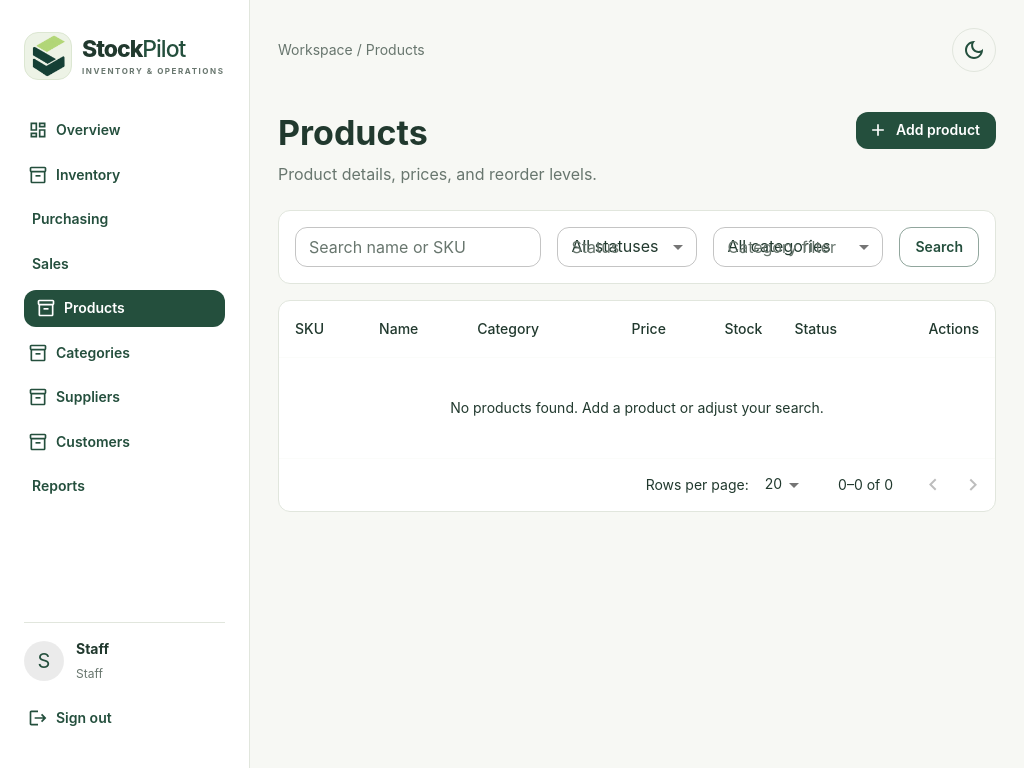
Test: creates a product and renders the server result with zero stock
This screenshot has width=1024, height=768.
Click the button "Add product". click: [926, 130]
box: [856,112,996,148]
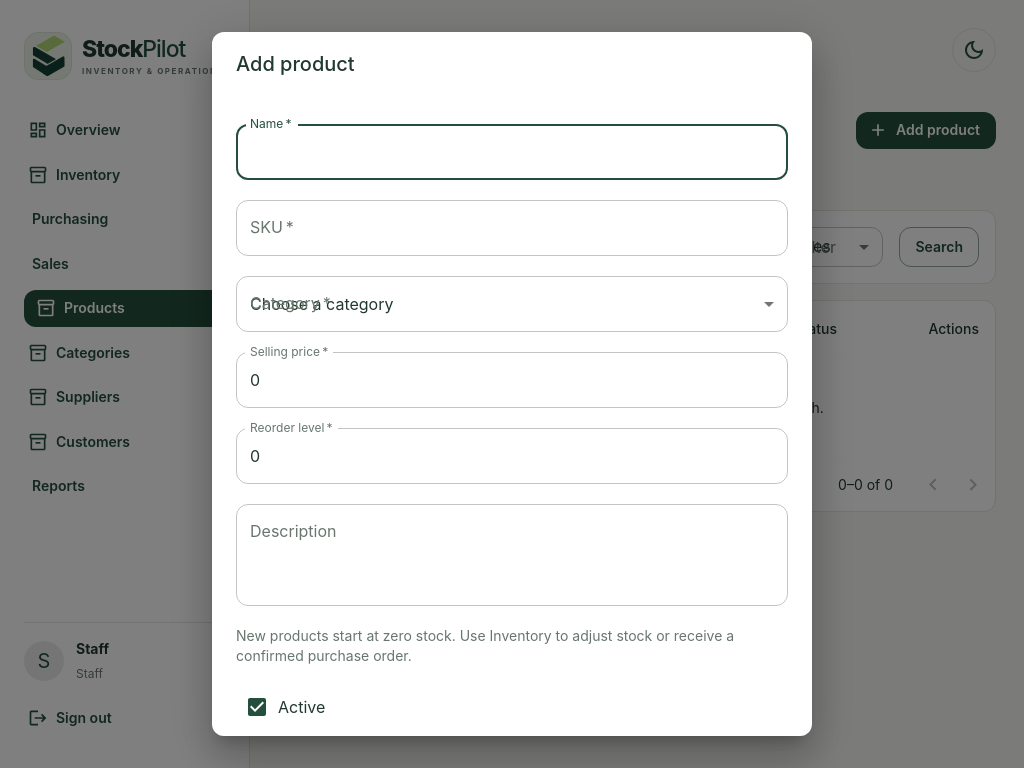
Type "Keyboard" into the field labelled "Name *". click: [512, 152]
box: [236,124,788,180]
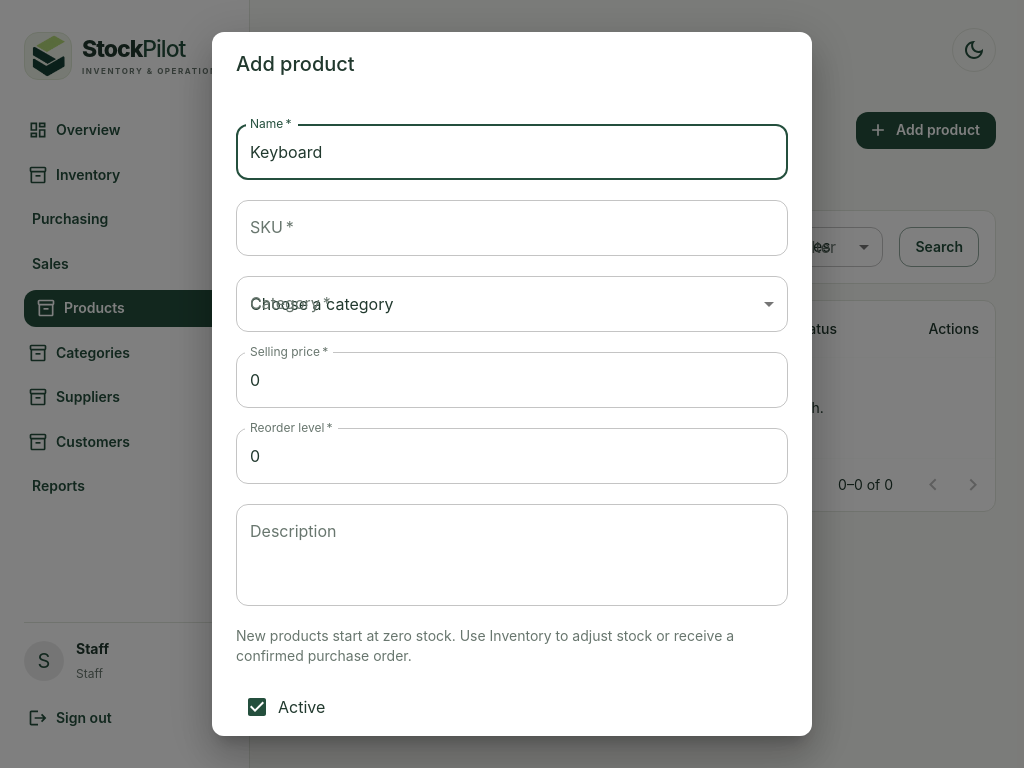
Type " key-001 " into the field labelled "SKU *". click: [512, 228]
box: [236,200,788,256]
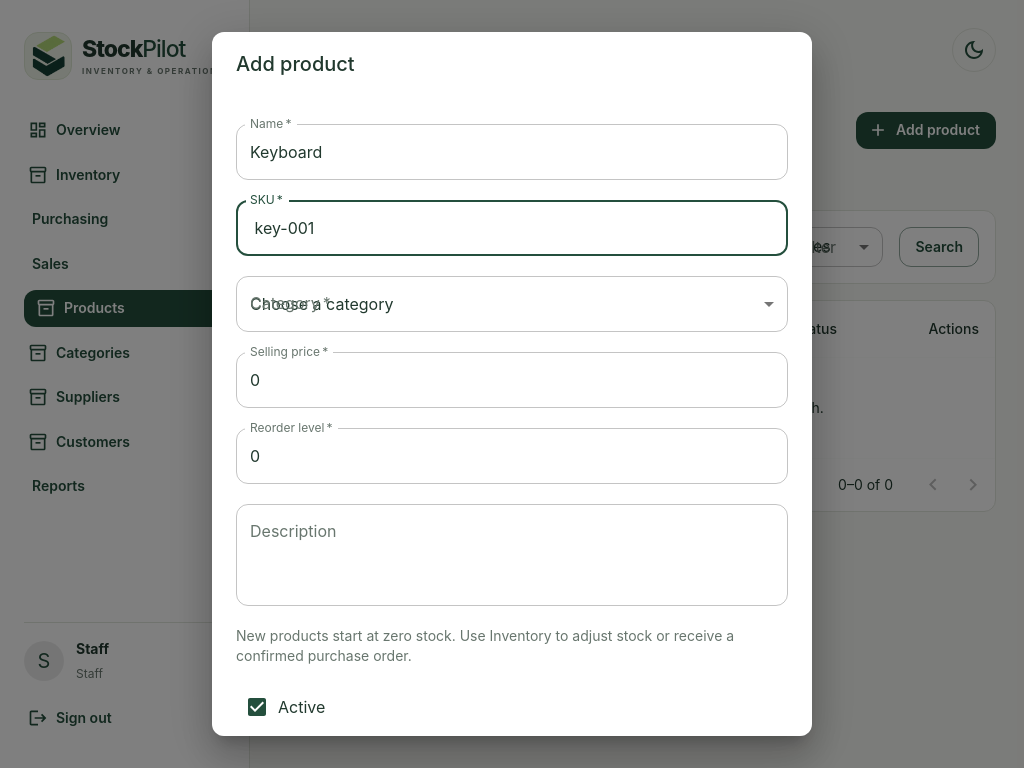
Select "Electronics" in the dropdown labelled "Category *". click: [512, 304]
box: [236,276,788,332]
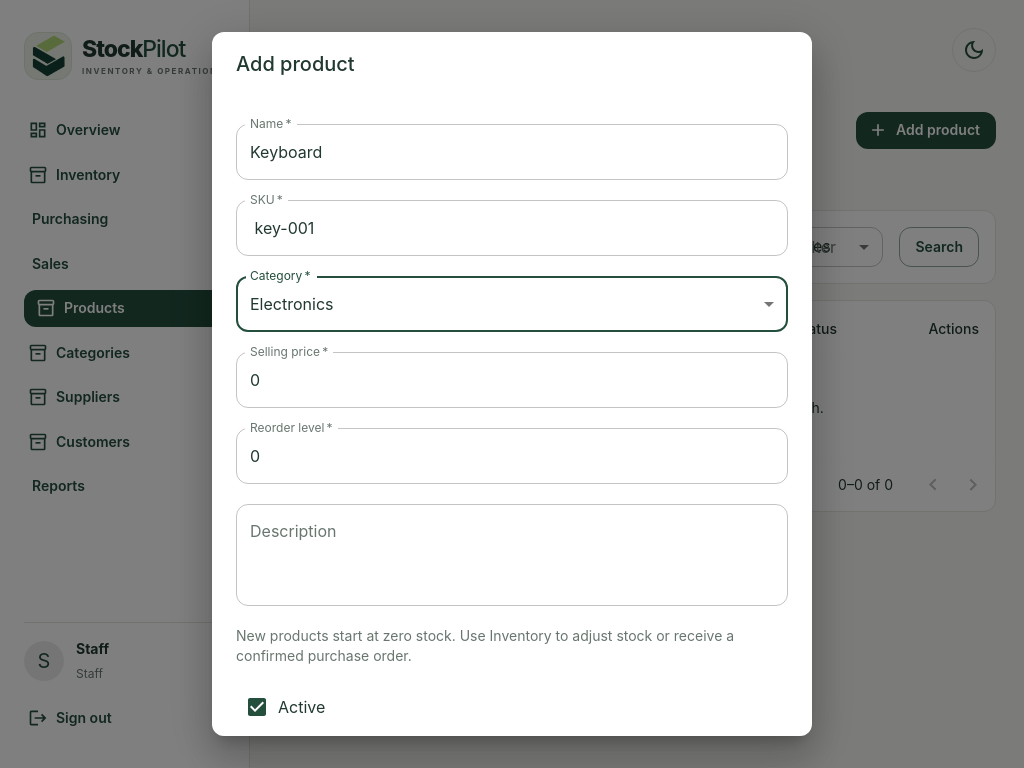
Replace the text in the field labelled "Selling price *" with "25.125". click: [512, 380]
box: [236,352,788,408]
(page scrolled)
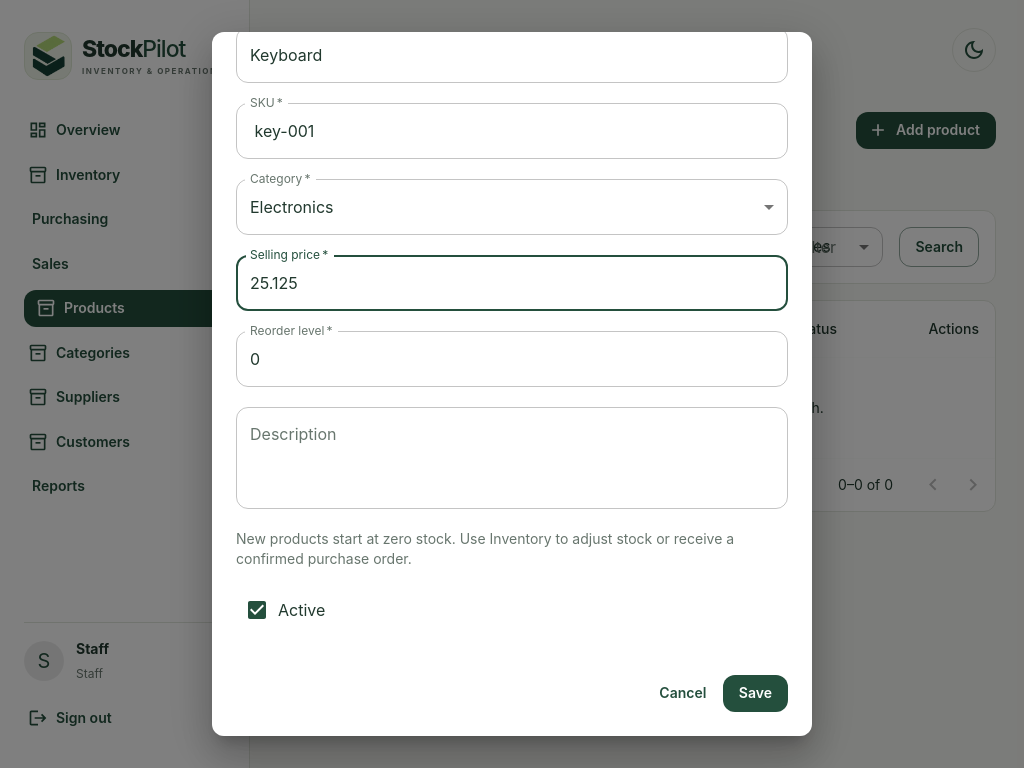
Click the button "Save". click: [755, 693]
box: [723,675,788,712]
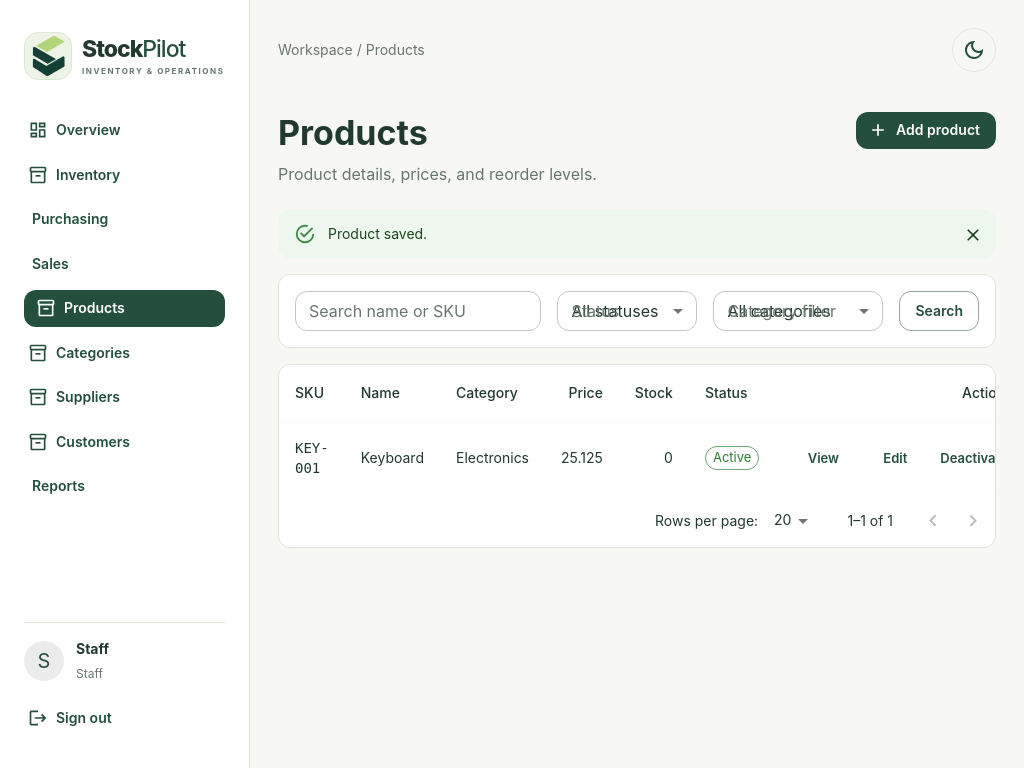
expect the text "Product saved." is shown: met, box [328,225,427,242]
expect the table named "Products" shows "KEY-001": met, box [295,440,329,476]
